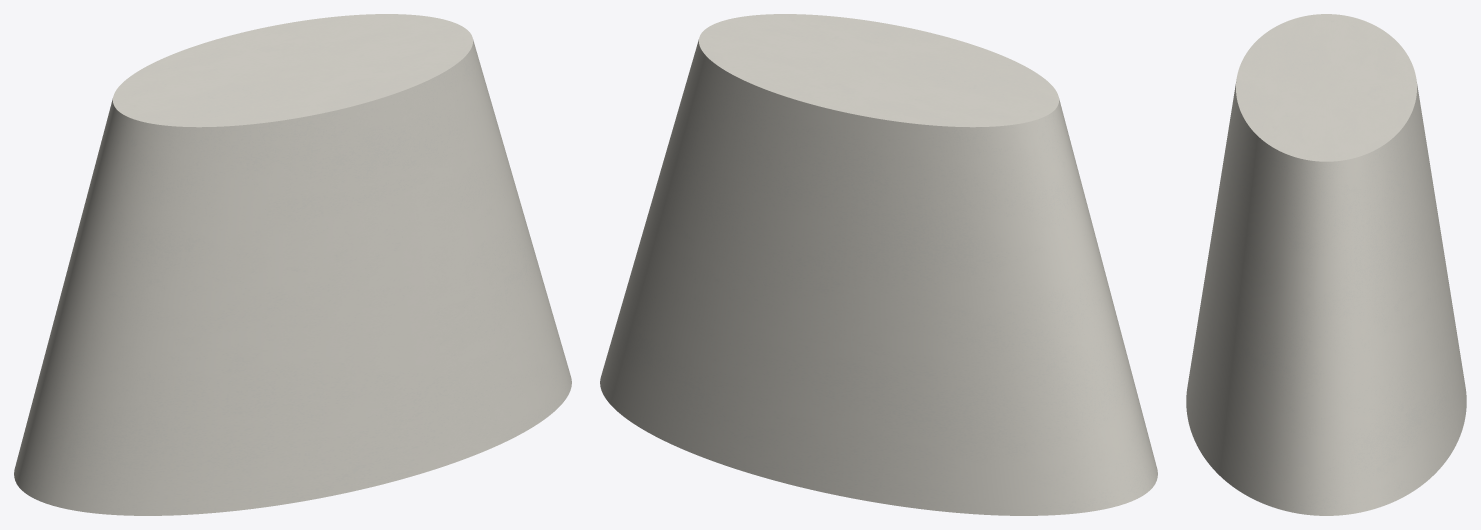
The model's file is pale_danish_standard_eqone.glb.
3 renders of one model, left to right at view 1: azimuth 30°, elevation 25°; view 2: azimuth 150°, elevation 25°; view 3: azimuth 270°, elevation 25°, orthographic. The views are drawn at different scales.
Parts seen in each view (by area): view 1: eqone; view 2: eqone; view 3: eqone.
Part boxes in pixels (box(x1,y1,x2,y2)): eqone: box(14, 14, 571, 515); eqone: box(600, 14, 1157, 515); eqone: box(1186, 14, 1466, 515).
Size of the model in its own units: 3.82 by 2.44 by 1.98.
Materials: 1 (1 with a texture image).
